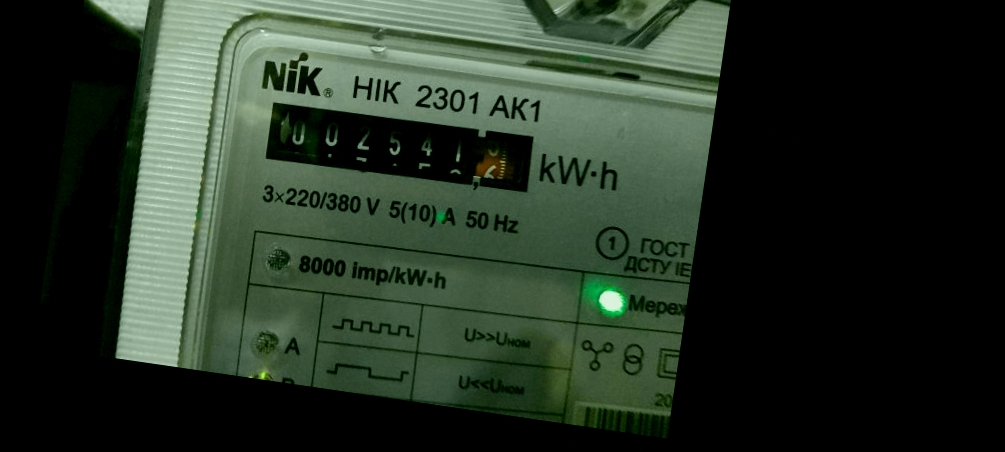0: (319, 114, 343, 150), (288, 116, 309, 147)
1: (446, 130, 467, 165)
2: (350, 118, 376, 154)
4: (416, 126, 437, 159)
5: (384, 125, 404, 159)
6: (479, 158, 498, 182)
screen: (247, 82, 557, 214)
